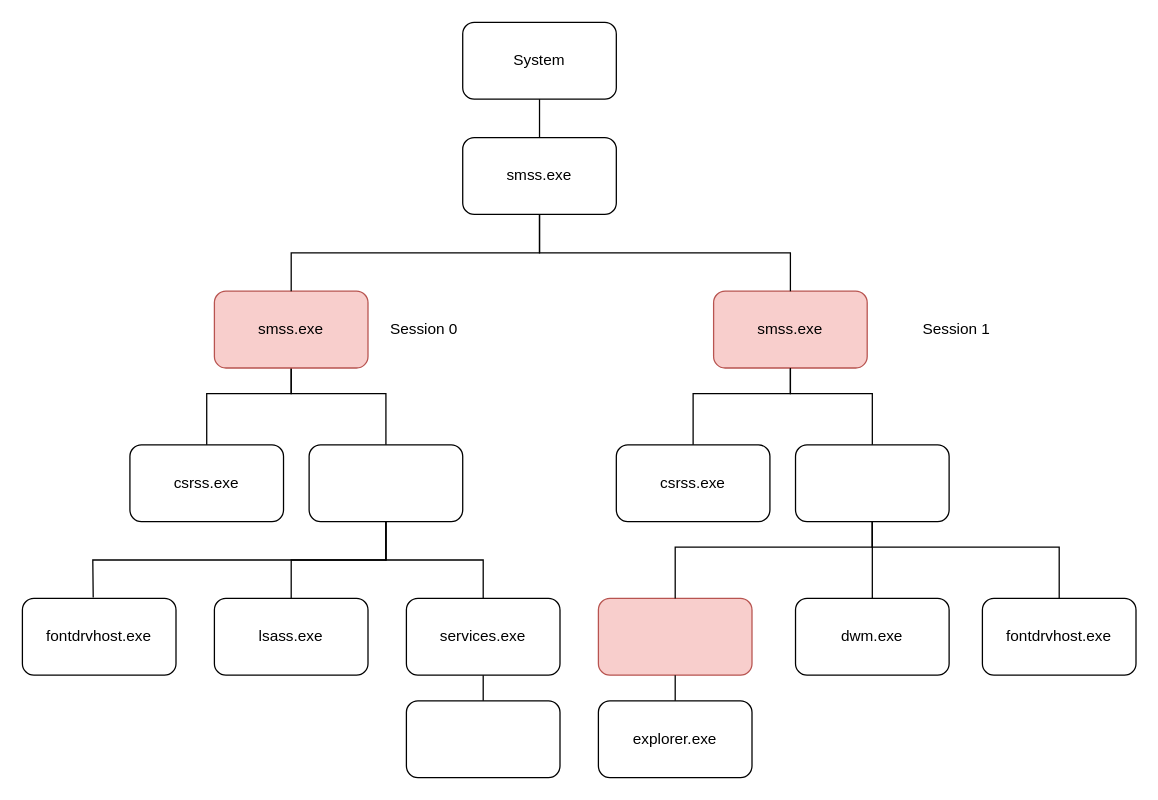
Some shapes in this 1158 by 800 pixel diagram are drawn without their labels. Here are the shapes that lost their labels. From the top down, the centre of each, then its label:
At point 385,483: "wininit.exe".
At point 871,483: "winlogon.exe".
At point 674,636: "userinit.exe".
At point 482,739: "svchost.exe (multiple instances)".
